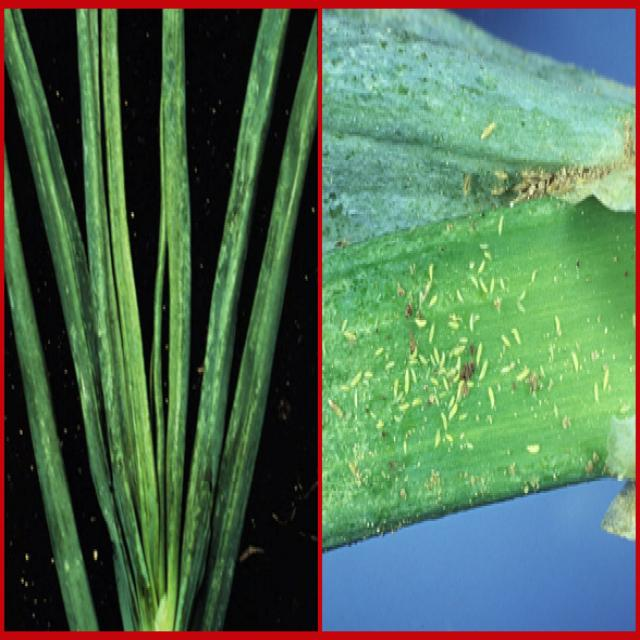Thrip-Group-: (332, 181, 581, 494)
